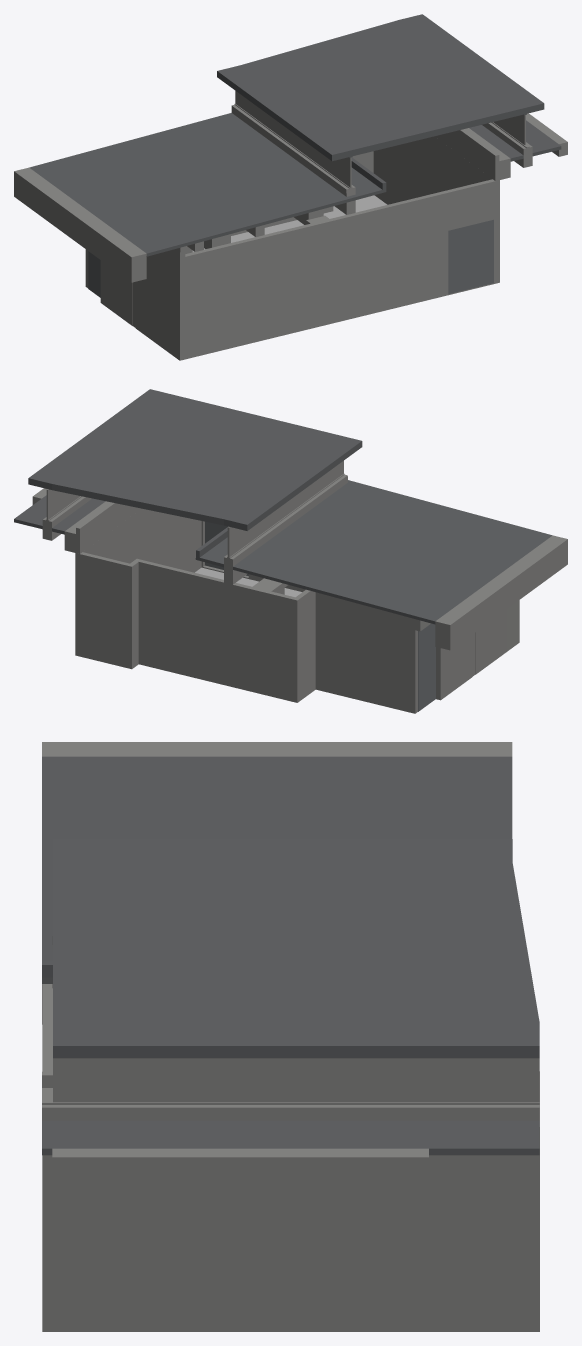
The picture shows the model from 3 angles, top to bottom: view 1: azimuth 30°, elevation 25°; view 2: azimuth 150°, elevation 25°; view 3: azimuth 270°, elevation 25°; orthographic projection. The views are drawn at different scales.
Visible parts, largest first — view 1: 立方體.001, 立方體, 立方體.002, 立方體.004, 立方體.003; view 2: 立方體.001, 立方體, 立方體.002, 立方體.004, 立方體.003; view 3: 立方體.001, 立方體, 立方體.002.
Boxes of the visible parts, x1,y1,x2,y2 form: 立方體.001: (14, 14, 567, 360); 立方體: (85, 136, 499, 359); 立方體.002: (100, 91, 525, 351); 立方體.004: (88, 219, 493, 297); 立方體.003: (192, 195, 387, 252); 立方體.001: (14, 389, 567, 676); 立方體: (75, 508, 417, 713); 立方體.002: (46, 461, 507, 700); 立方體.004: (205, 521, 435, 711); 立方體.003: (195, 567, 301, 597); 立方體.001: (42, 742, 539, 1182); 立方體: (42, 984, 539, 1331); 立方體.002: (53, 1058, 539, 1102).
Size of the model in its own units: 23.16 by 8.37 by 11.38.
Materials: 4 (1 with a texture image).
